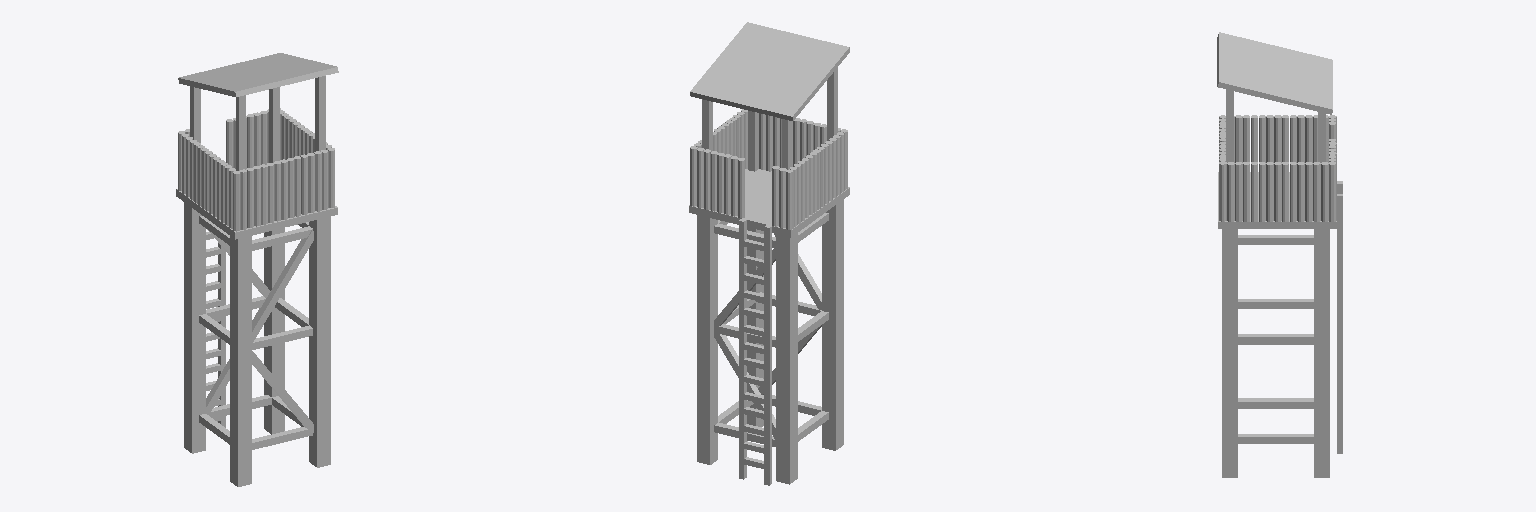
File: puesto.obj
The picture shows the model from 3 angles: view 1: azimuth 30°, elevation 25°; view 2: azimuth 150°, elevation 25°; view 3: azimuth 270°, elevation 25°; orthographic projection.
Visible parts, largest first — view 1: Puesto_Cube.050; view 2: Puesto_Cube.050; view 3: Puesto_Cube.050.
Part boxes in pixels (bbox=[...]): Puesto_Cube.050: bbox=[176, 53, 338, 486]; Puesto_Cube.050: bbox=[689, 22, 849, 485]; Puesto_Cube.050: bbox=[1217, 32, 1342, 477].
Size of the model in its own units: 3.43 by 12.68 by 3.61.